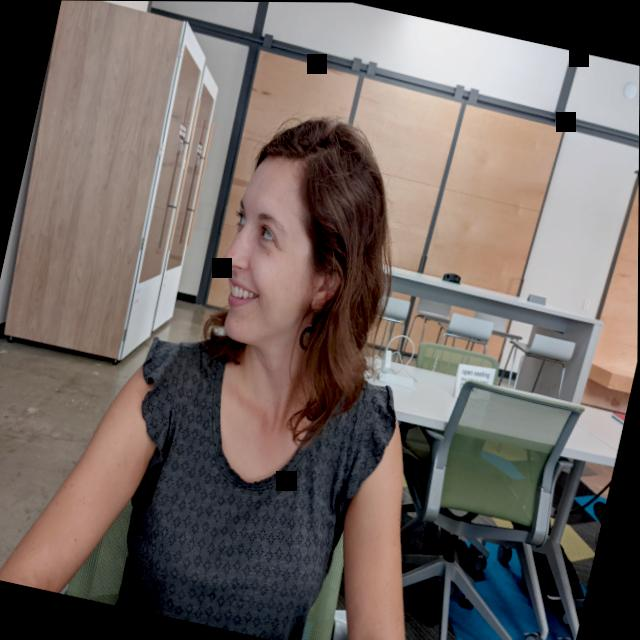NO-Mask: (203, 165, 351, 362)
